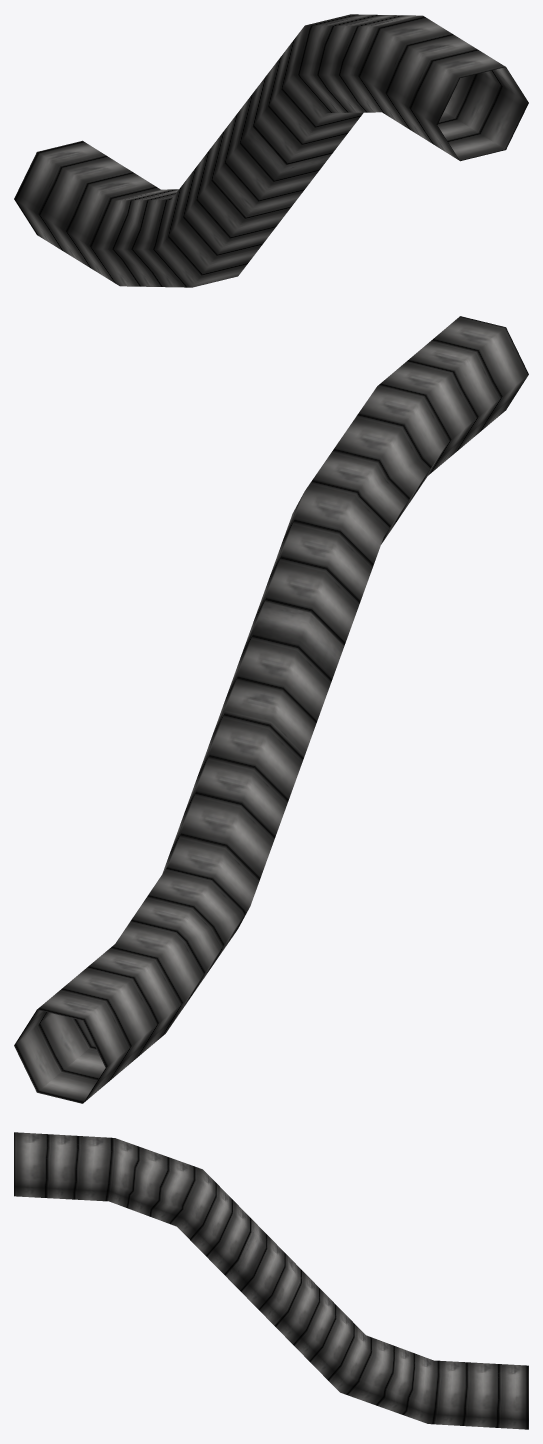
File: small_ribbed_limp.fbx
3 views of the same model, one above another, from view 1: azimuth 30°, elevation 25°; view 2: azimuth 150°, elevation 25°; view 3: azimuth 270°, elevation 25° (orthographic). The views are drawn at different scales.
Parts seen in each view (by area): view 1: allPipes:polySurface5; view 2: allPipes:polySurface5; view 3: allPipes:polySurface5.
Part boxes in pixels (bbox=[...]): allPipes:polySurface5: bbox=[14, 14, 528, 287]; allPipes:polySurface5: bbox=[14, 316, 528, 1103]; allPipes:polySurface5: bbox=[14, 1132, 528, 1429].
Size of the model in its own units: 0.25 by 1.22 by 2.
